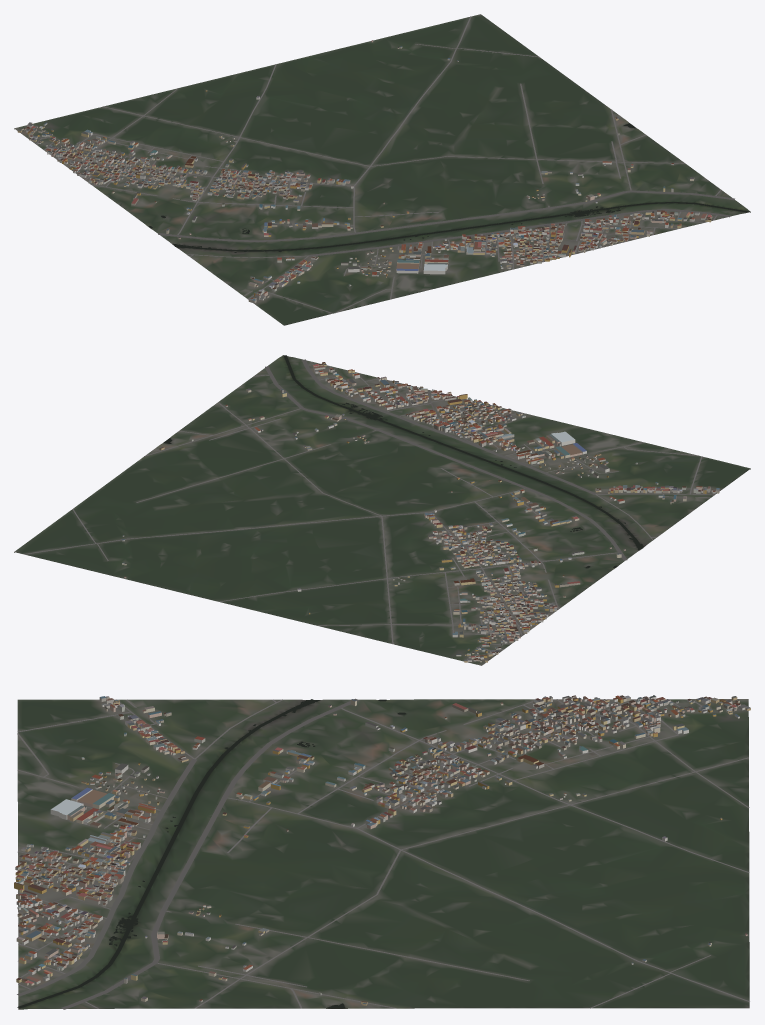
3 renders of one model, top to bottom at view 1: azimuth 30°, elevation 25°; view 2: azimuth 150°, elevation 25°; view 3: azimuth 270°, elevation 25°, orthographic. The views are drawn at different scales.
Parts seen in each view (by area): view 1: ground, buildings, roads, water; view 2: ground, buildings, roads, water; view 3: ground, buildings, roads, water.
Boxes of the visible parts, x1,y1,x2,y2 form: ground: (14,14,750,325); buildings: (17,40,712,303); roads: (36,16,734,313); water: (148,123,749,252); ground: (14,355,750,665); buildings: (121,362,719,662); roads: (24,359,714,650); water: (163,355,643,568); ground: (17,699,749,1009); buildings: (14,695,750,1005); roads: (17,698,749,1009); water: (17,699,406,1008).
Bounding box in the file's own units: 1413 × 16.3 × 1413.
